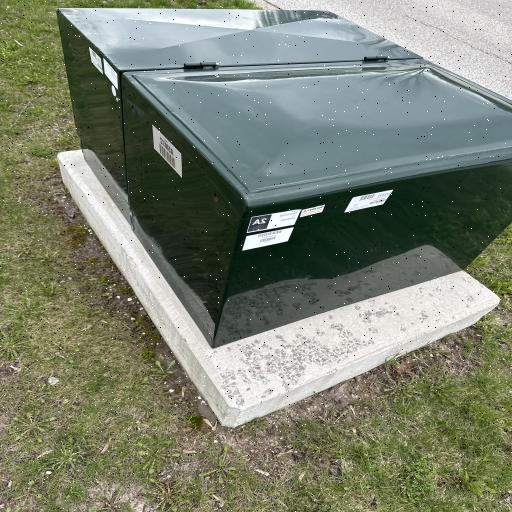Electrical Box: (49, 8, 512, 349)
